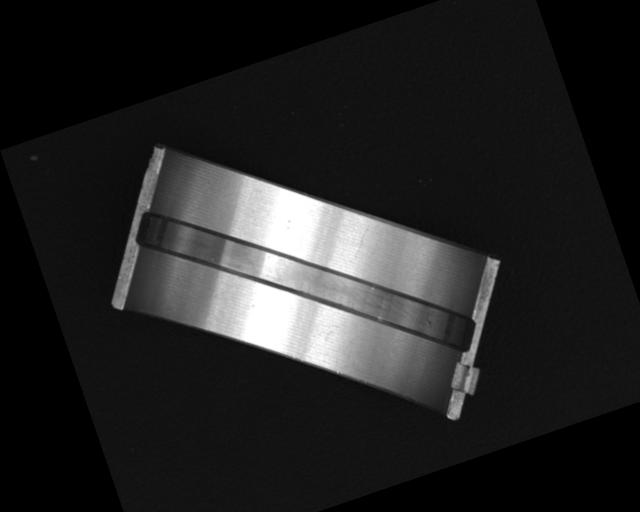gap: (128, 122, 481, 439)
nick: (345, 225, 376, 260)
